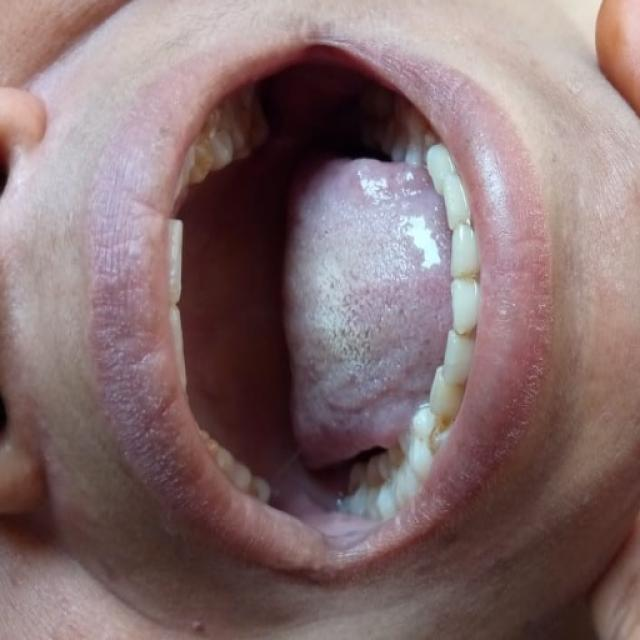processing_area: (180, 61, 451, 540)
